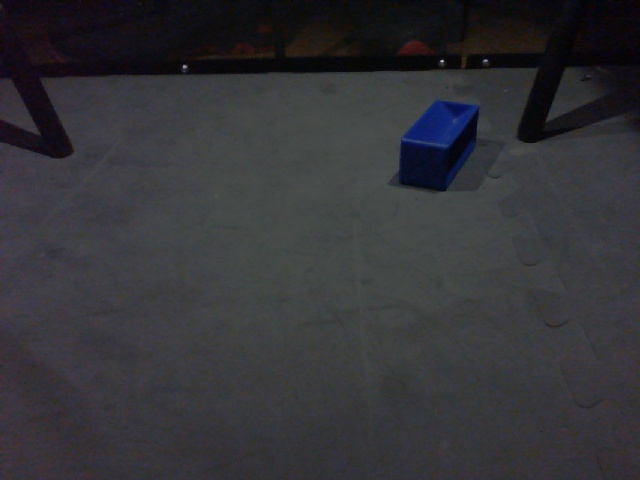BlueSample: (397, 96, 482, 197)
